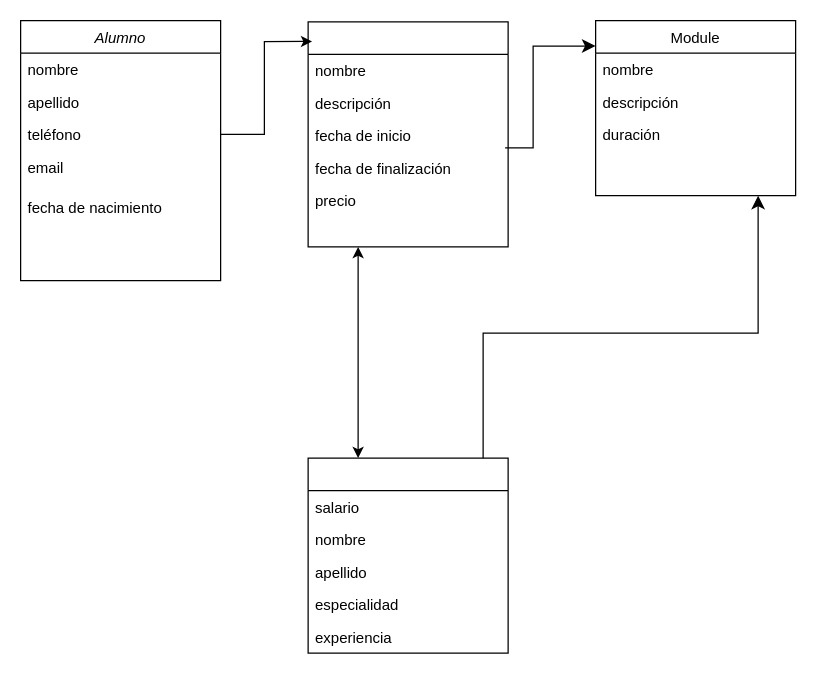
Image size: 816x674. Some labels were removed from this diagram. The shapes that lost their labels are listed below. From the top down, each one's box as (x1, y1, x2, y2) in pixels, then its label:
(307, 21, 508, 247): Bootcamp
(307, 457, 508, 653): Professeur
